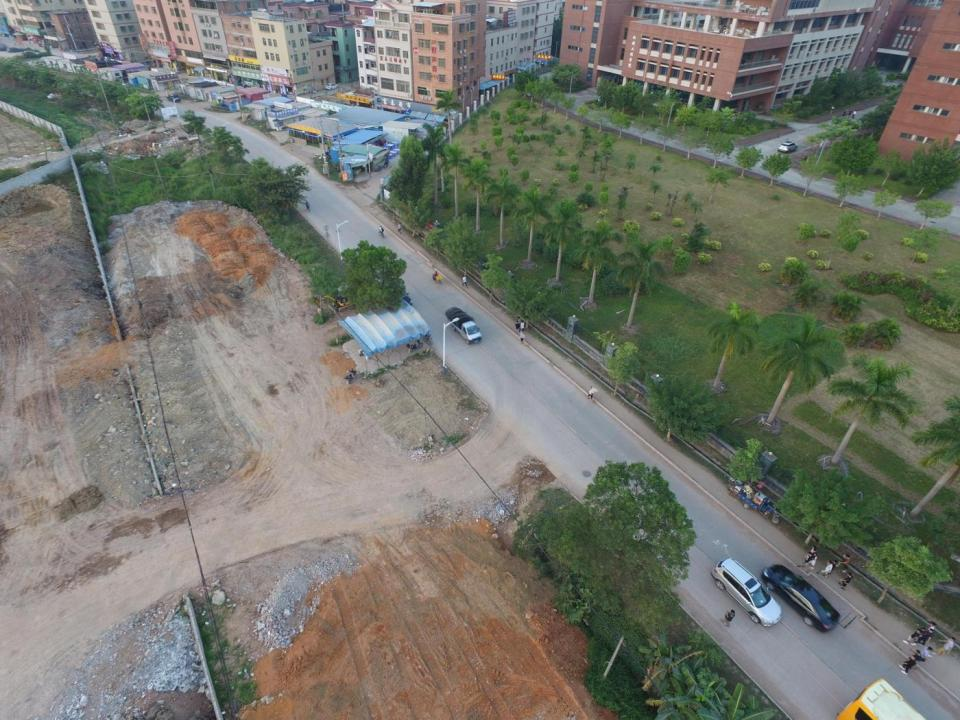car: (763, 563, 838, 631), (711, 557, 782, 627), (387, 284, 413, 311), (778, 141, 798, 155), (323, 83, 339, 90), (166, 94, 180, 102), (7, 47, 23, 52)
truck: (728, 479, 780, 524), (445, 306, 482, 345)
